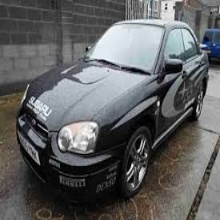no damage: (16, 18, 210, 206), (203, 27, 220, 62)
